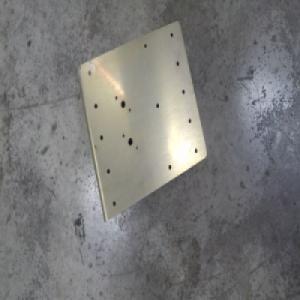MetalSheet: (75, 17, 207, 225)
